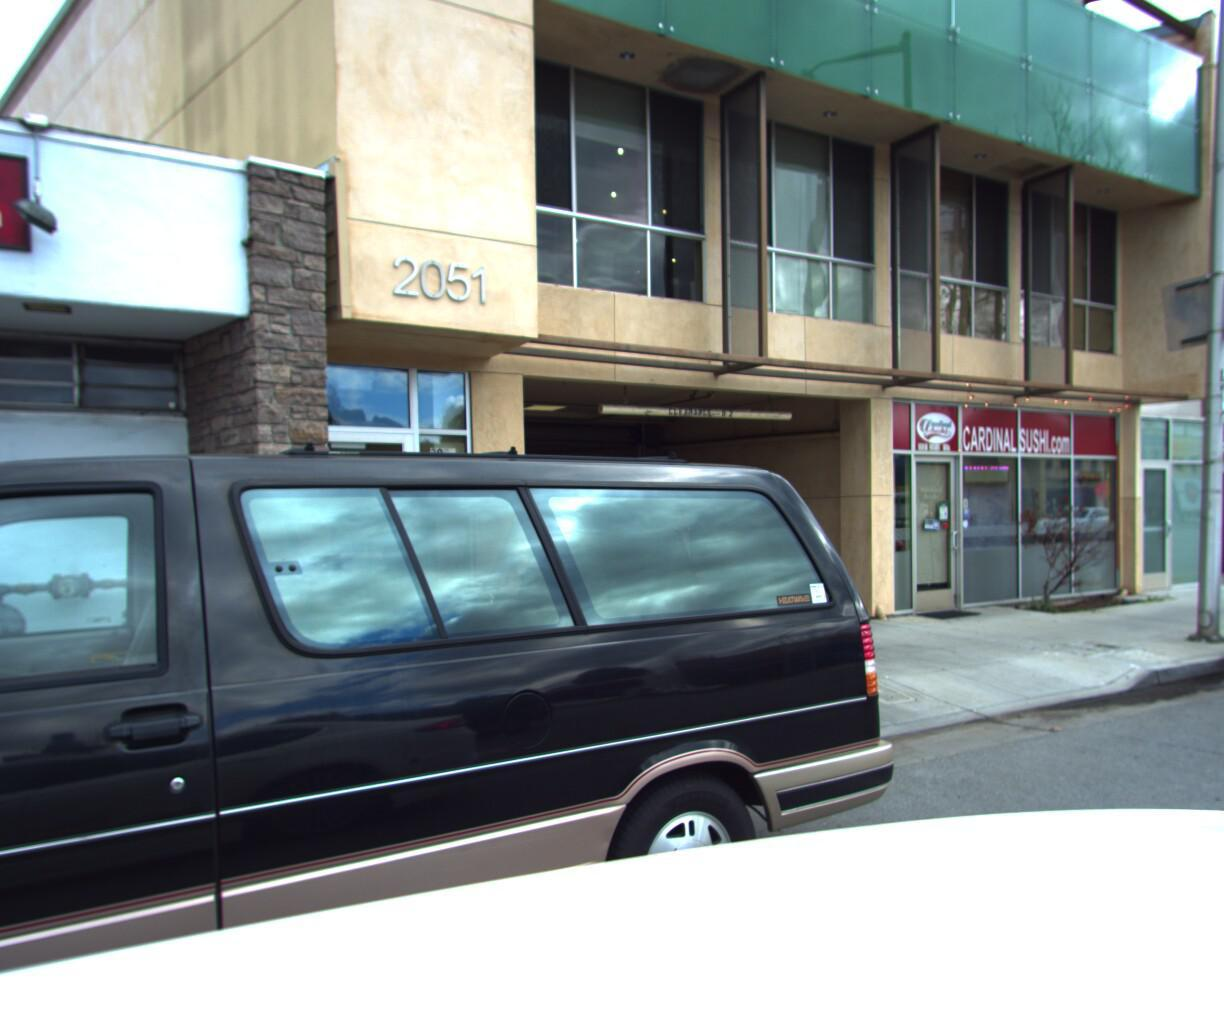car: (0, 220, 958, 1024)
